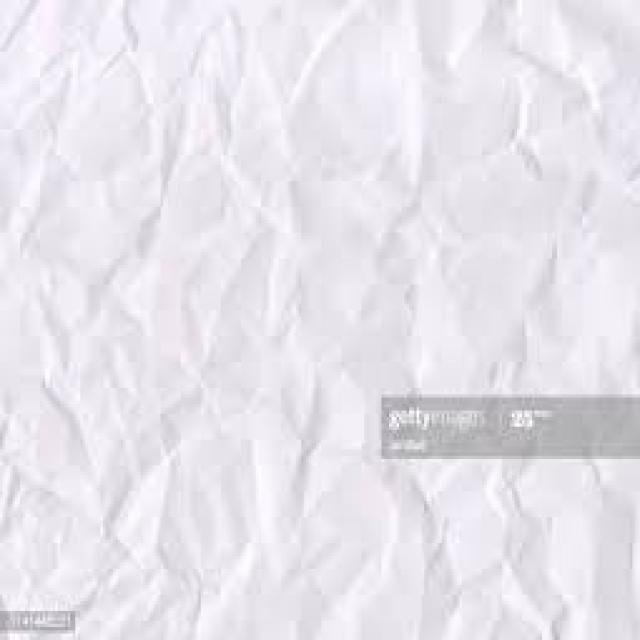paper: (0, 0, 637, 611)
